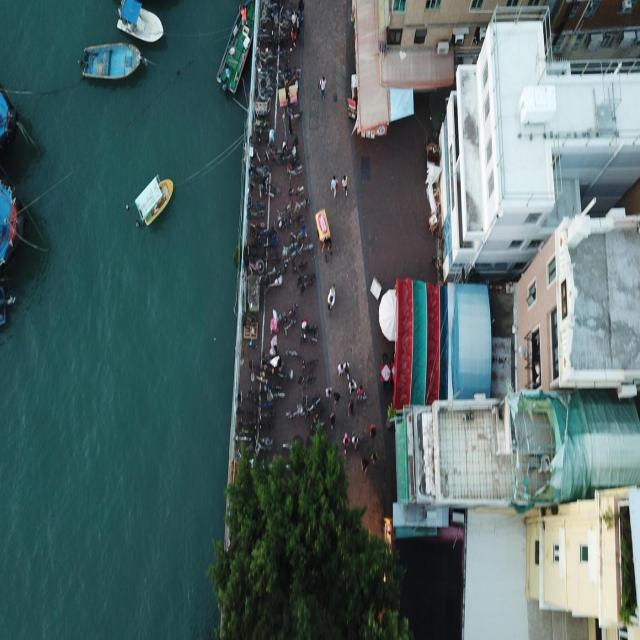tree: (206, 418, 413, 638)
